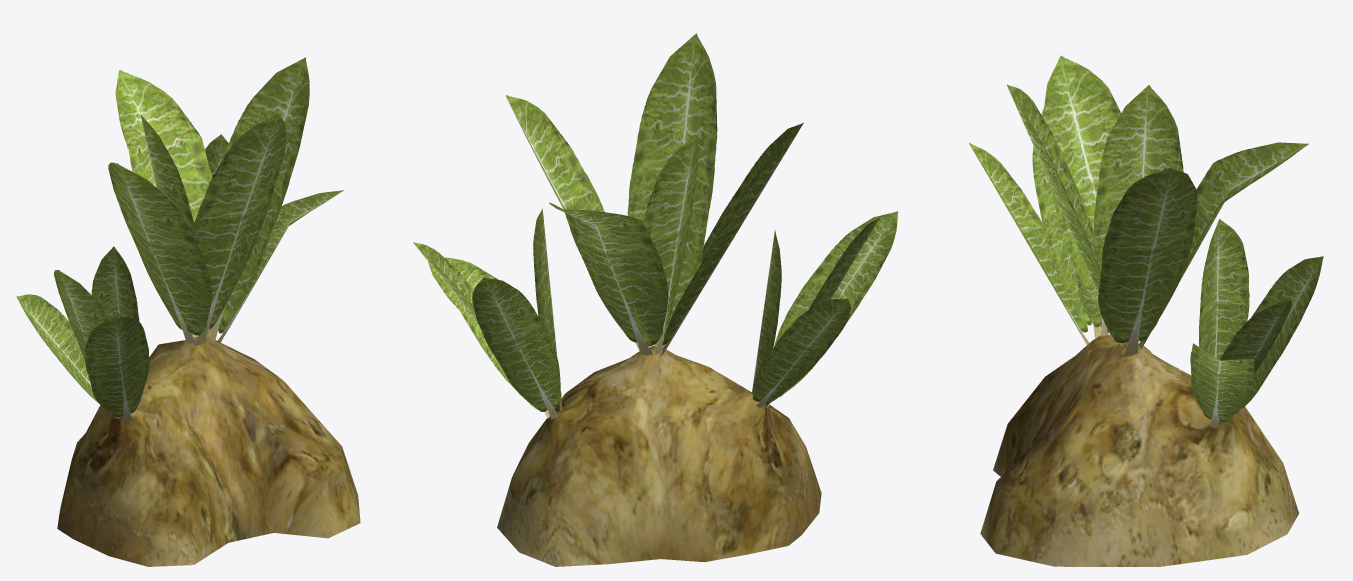
The model's file is leaf_charbote_l0.fbx.
3 renders of one model, left to right at view 1: azimuth 30°, elevation 25°; view 2: azimuth 150°, elevation 25°; view 3: azimuth 270°, elevation 25°, orthographic.
Parts seen in each view (by area): view 1: mesh_node; view 2: mesh_node; view 3: mesh_node.
Boxes of the visible parts, x1,y1,x2,y2 form: mesh_node: [16, 57, 360, 566]; mesh_node: [413, 33, 898, 566]; mesh_node: [969, 55, 1323, 566].
Size of the model in its own units: 1.11 by 1.15 by 0.8516.
